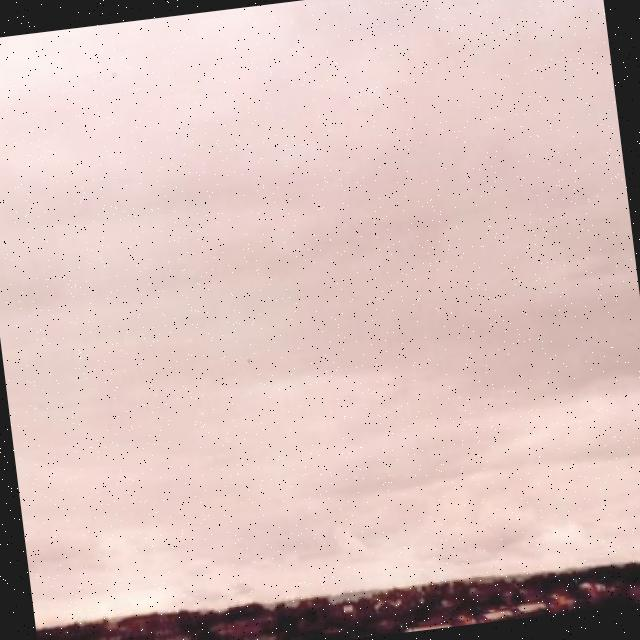Sc: (1, 119, 640, 601)
